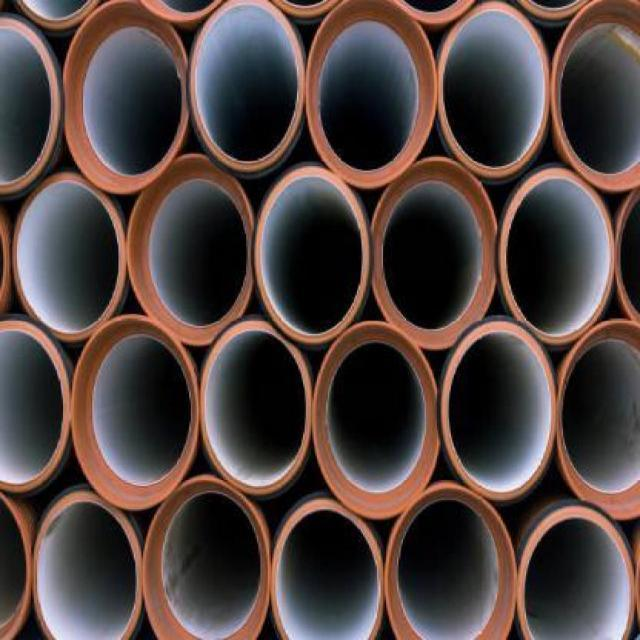pipe: (311, 319, 438, 518), (370, 157, 499, 350), (70, 316, 198, 510), (306, 1, 437, 188), (126, 153, 252, 347), (65, 1, 187, 194), (437, 316, 557, 504), (250, 163, 372, 346), (142, 474, 270, 639), (188, 0, 307, 174), (498, 168, 614, 346), (383, 486, 517, 639), (199, 317, 312, 497), (437, 1, 550, 180), (11, 172, 127, 342), (555, 318, 640, 518), (551, 0, 639, 193), (271, 491, 385, 639), (32, 486, 142, 639), (516, 503, 636, 639), (0, 315, 71, 494), (0, 12, 63, 200)
